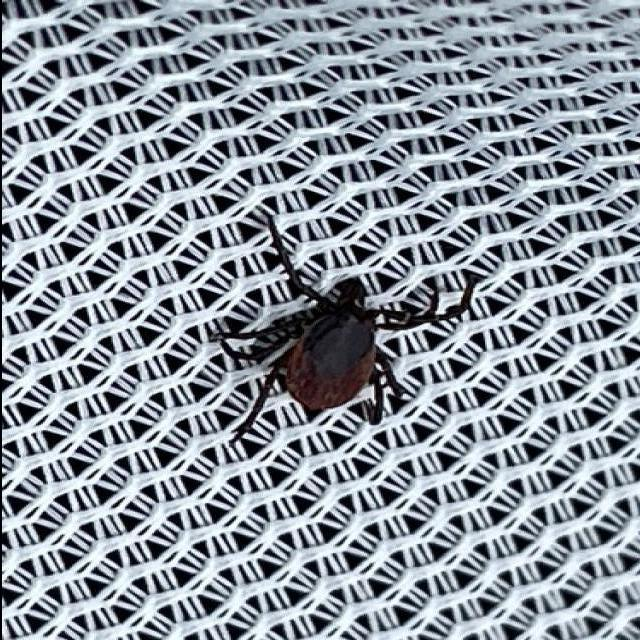Ixodes Ricinus-F: (217, 221, 474, 428)
